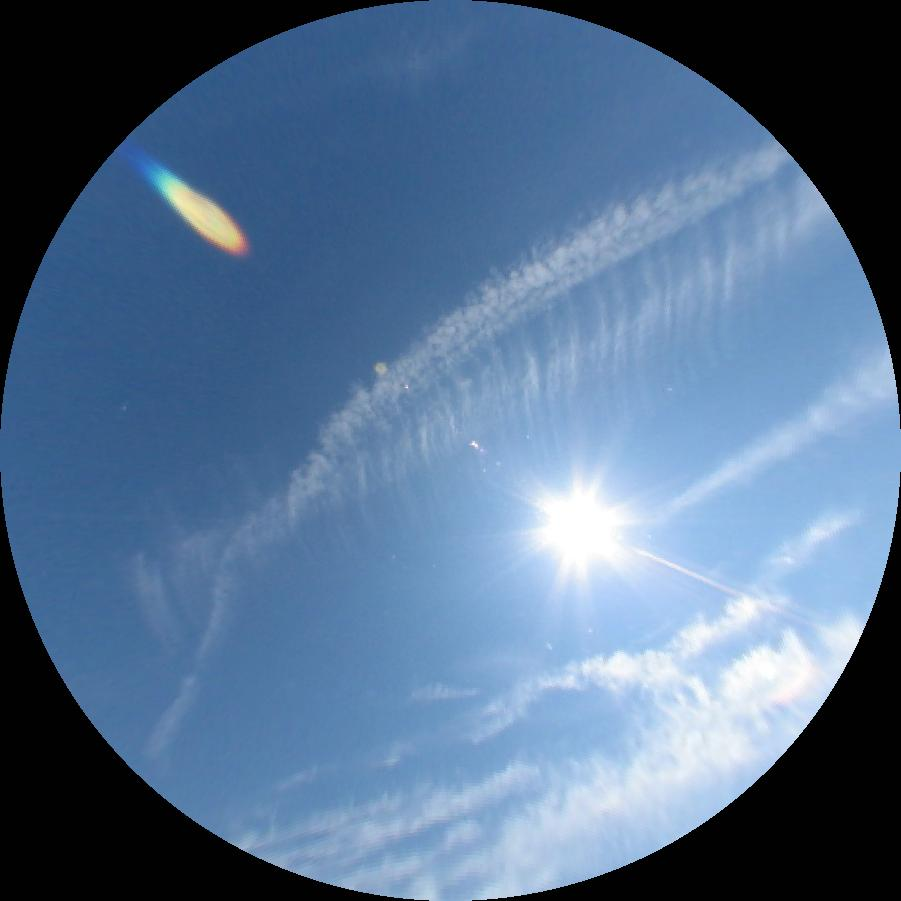contrail veryold: (142, 136, 792, 759), (128, 165, 843, 643), (647, 347, 895, 525)
parasite: (629, 548, 824, 626)
sun: (553, 505, 610, 553)
